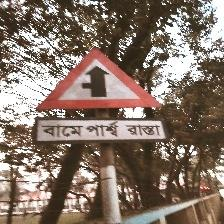Side-road-left: (33, 47, 169, 145)
